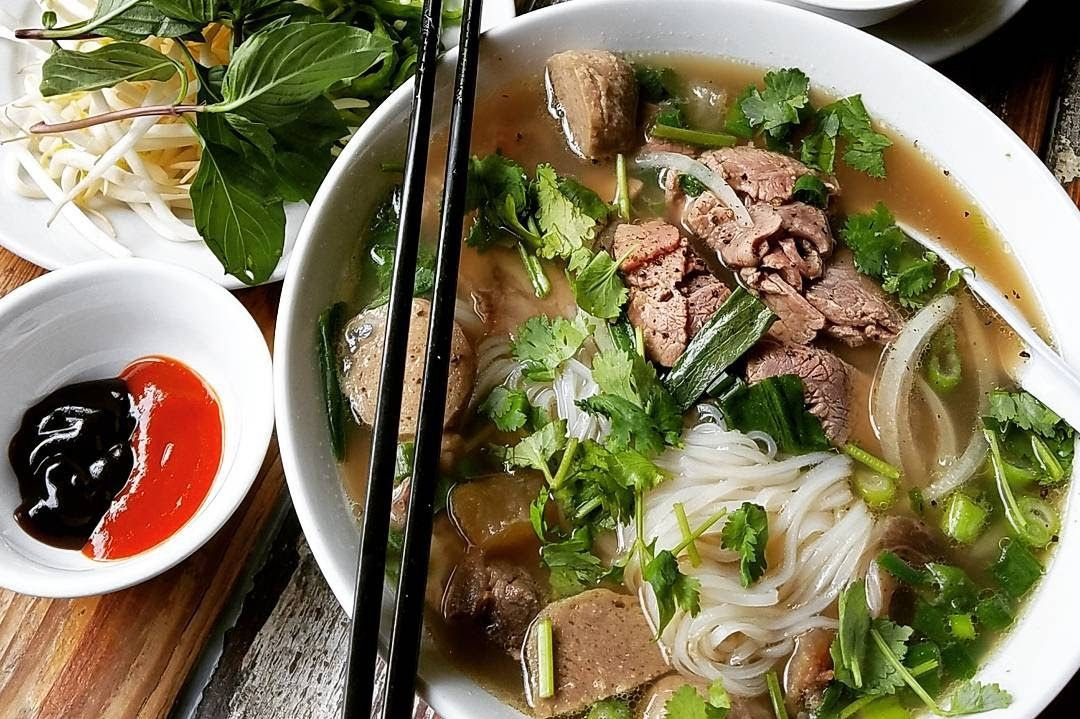pho: (285, 12, 1068, 719)
